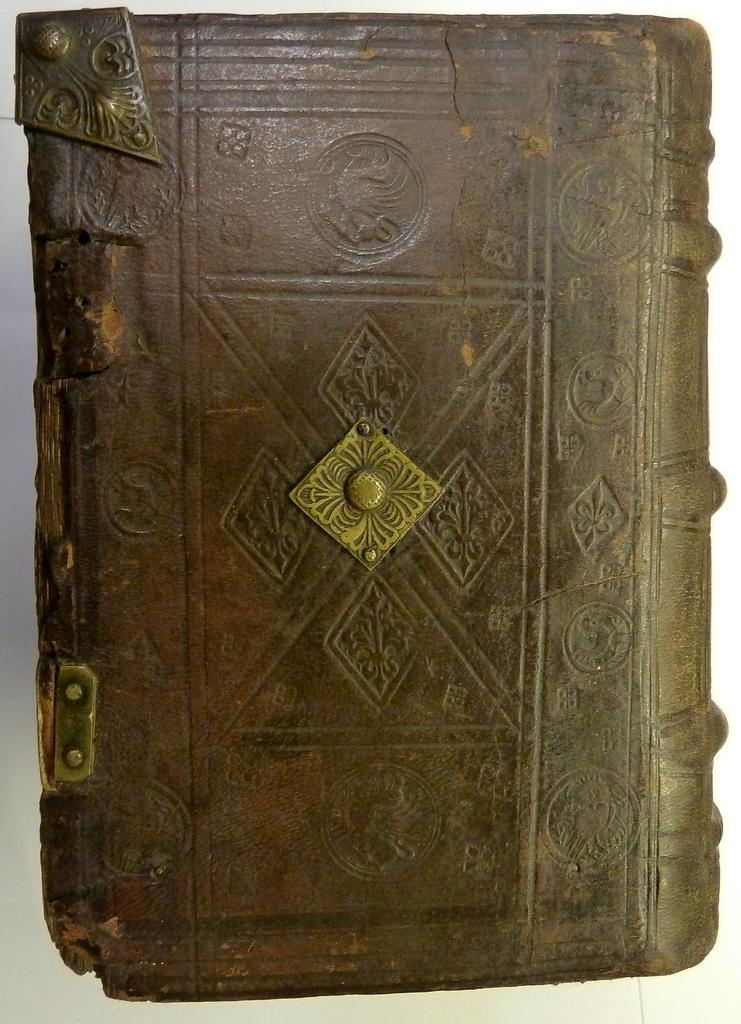book: (31, 2, 708, 1004)
